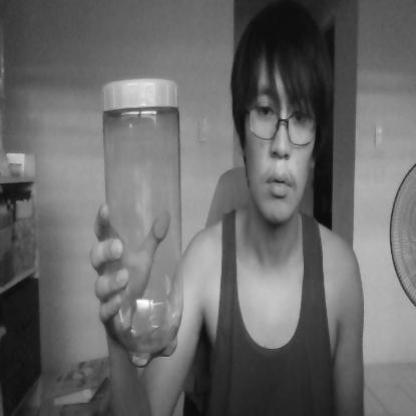Plastic Bottle: (98, 69, 187, 368)
